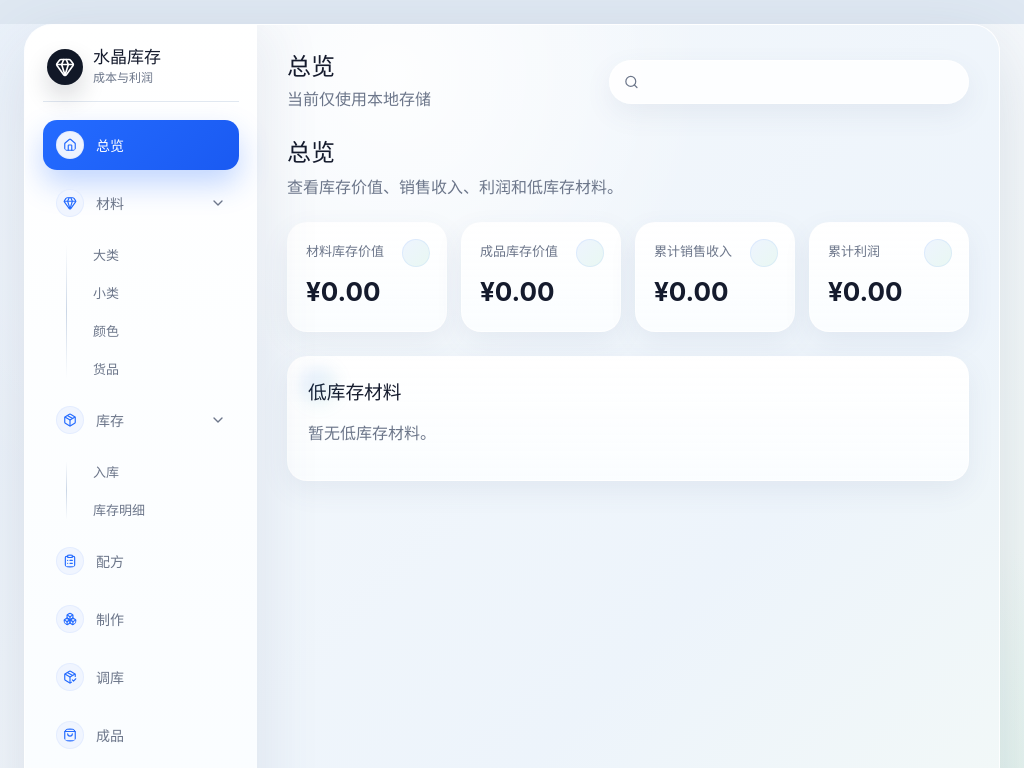
App navigation › expands material sections and lets directory search jump to a section
Expected: the button "大类" is shown, 81,238 -> 239,271
Click the button "材料": (141, 203) 43,178 -> 239,228
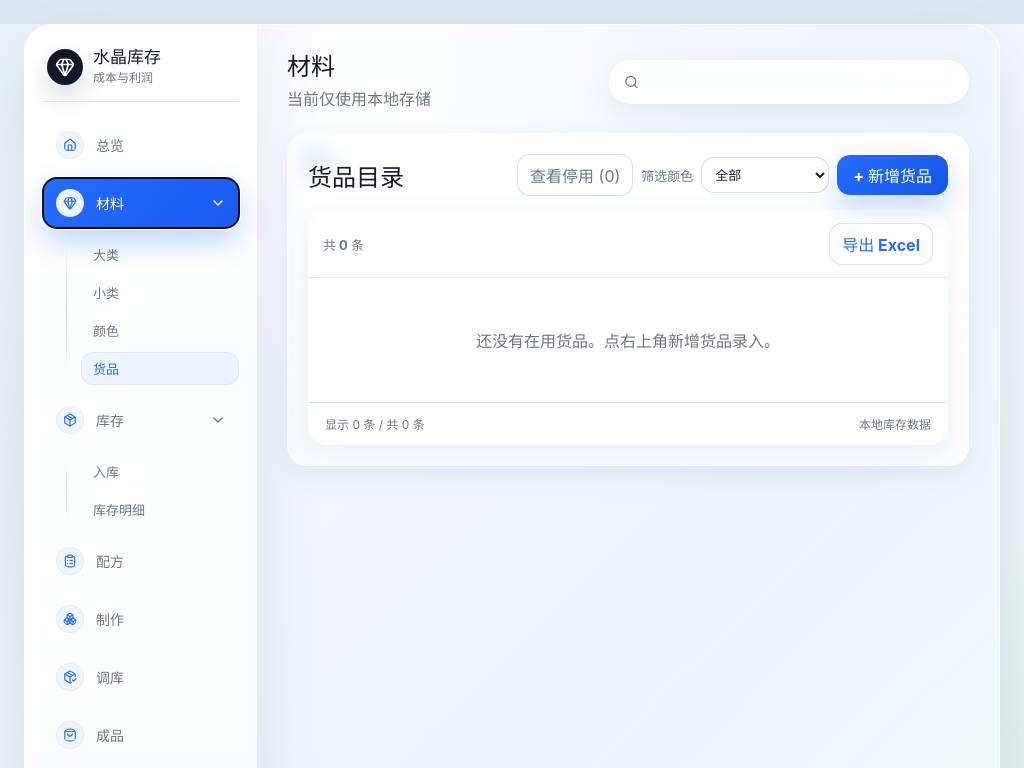
Click the button "材料": (141, 203) 43,178 -> 239,228
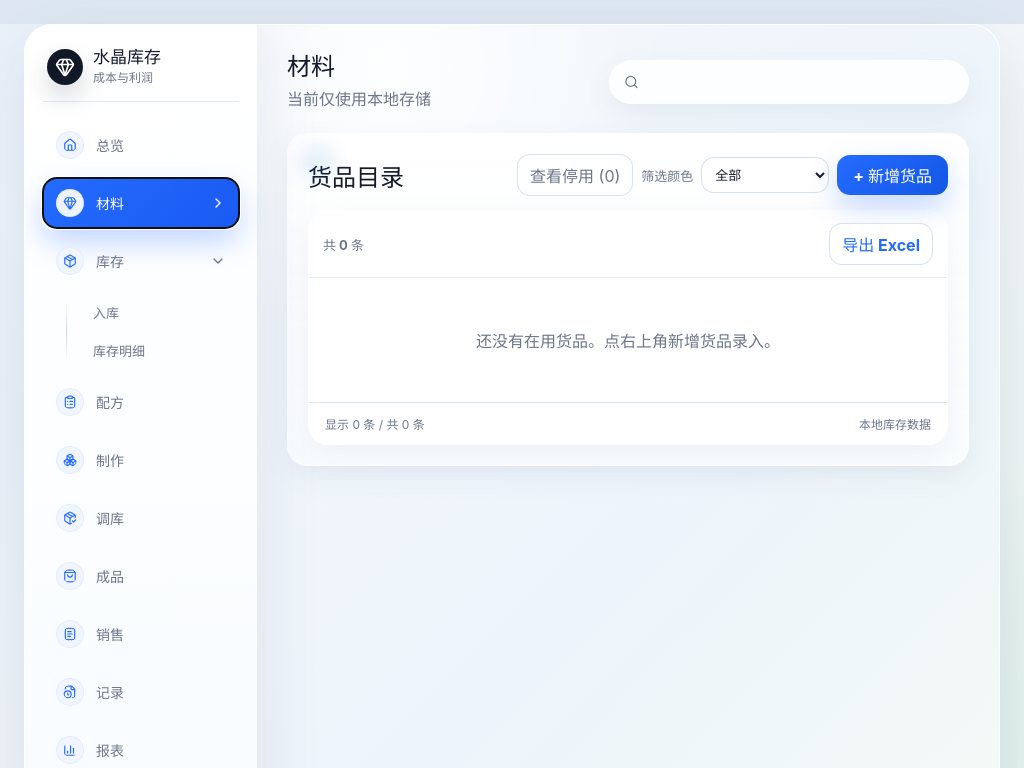
Expected: the button "大类" is gone
In the label named "搜索目录标题": (789, 82) 609,60 -> 969,104, type "颜色"
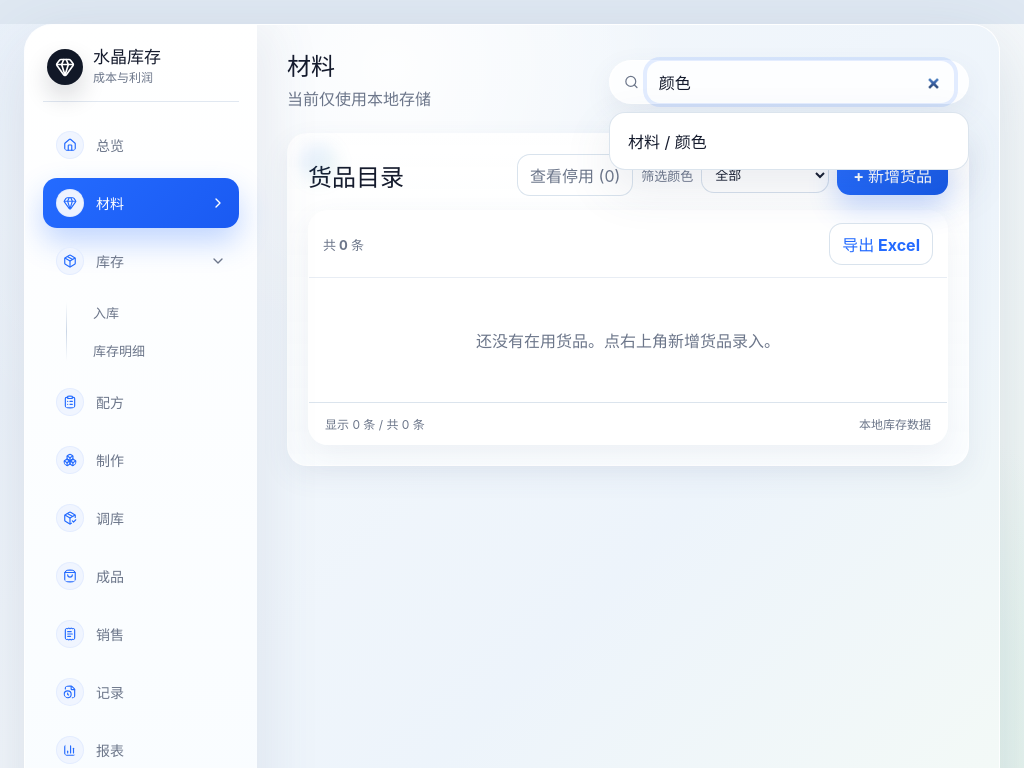
Click the button "材料 / 颜色": (667, 142) 618,121 -> 960,161
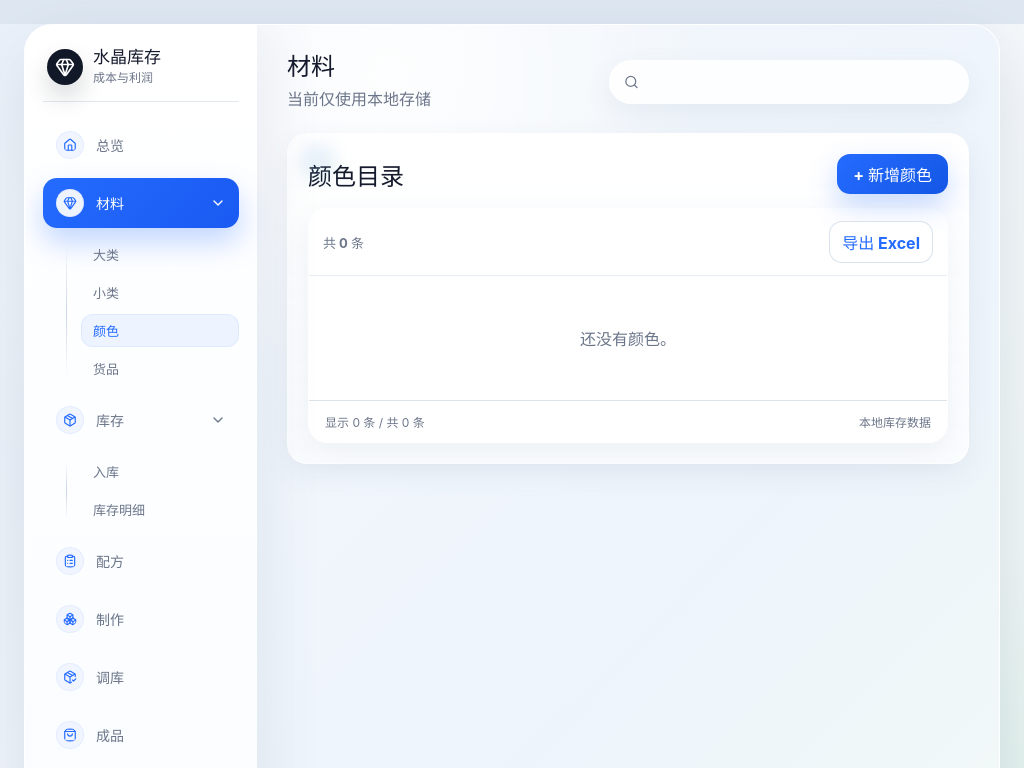
Expected: the heading "颜色目录" is shown, 308,156 -> 404,192
Expected: the button "大类" is shown, 81,238 -> 239,271
